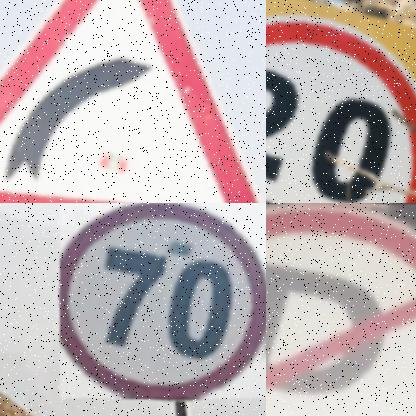No Parking: (266, 205, 416, 416)
Speed Limit (70 kmph): (60, 203, 266, 397)
Speed Limit -20 kmph-: (266, 0, 416, 203)
